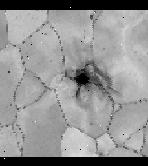good_void: (59, 59, 122, 100), (88, 12, 95, 20), (89, 121, 94, 125), (7, 69, 12, 73), (10, 102, 13, 105)
